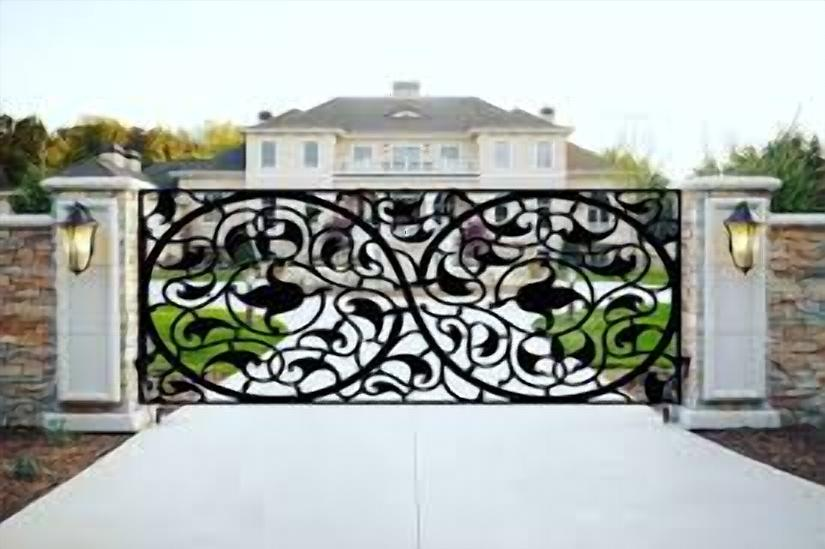Building: (168, 81, 574, 257)
Door: (394, 146, 418, 171)
Gate: (136, 186, 683, 405)
Window-without-grill: (590, 192, 611, 231), (201, 189, 225, 222), (260, 138, 277, 169), (496, 194, 511, 227), (352, 146, 370, 171), (538, 193, 553, 223), (302, 188, 316, 220), (494, 141, 509, 170), (535, 141, 551, 168), (441, 145, 459, 168), (262, 191, 274, 225), (303, 142, 318, 166)
